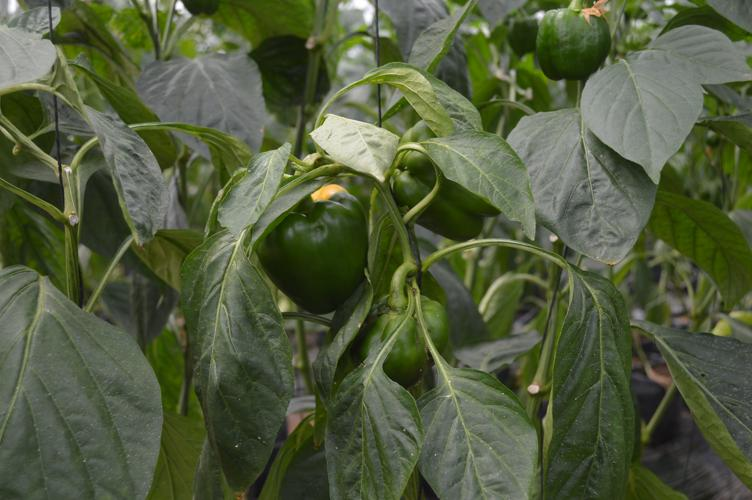BellPepper: (251, 192, 370, 313), (391, 117, 499, 241), (355, 295, 448, 387), (537, 8, 611, 78), (505, 13, 537, 57)
